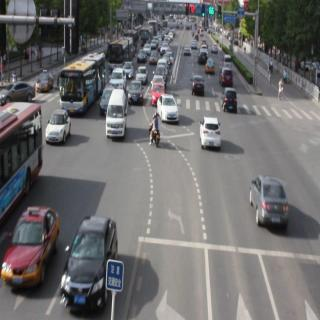BigCar: (0, 100, 43, 222), (57, 50, 105, 110)
Car: (65, 207, 110, 311), (7, 201, 56, 292), (250, 167, 291, 241), (106, 92, 129, 140), (46, 107, 71, 145), (199, 114, 220, 152), (158, 94, 179, 128), (221, 88, 239, 114), (128, 78, 144, 106), (110, 68, 127, 94), (191, 73, 206, 96), (219, 64, 233, 84), (151, 79, 163, 101), (136, 65, 148, 81), (221, 50, 233, 64), (206, 58, 216, 72), (184, 42, 192, 56)
